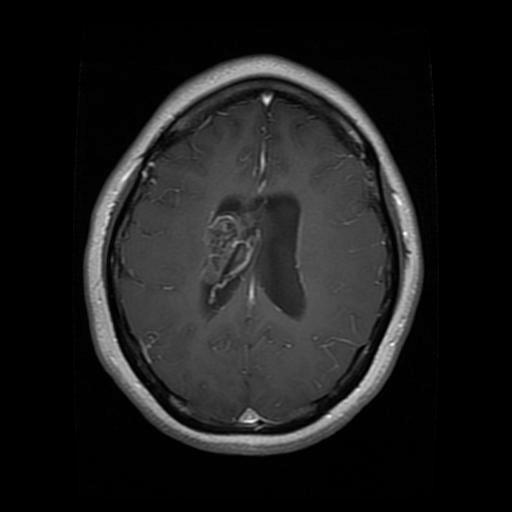Tumour-Glioma: (193, 205, 276, 307)
